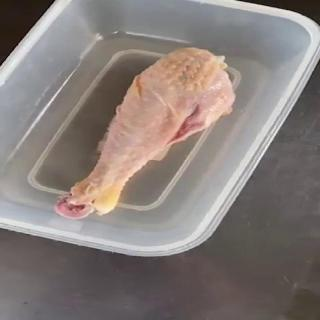Ayam: (53, 47, 237, 221)
